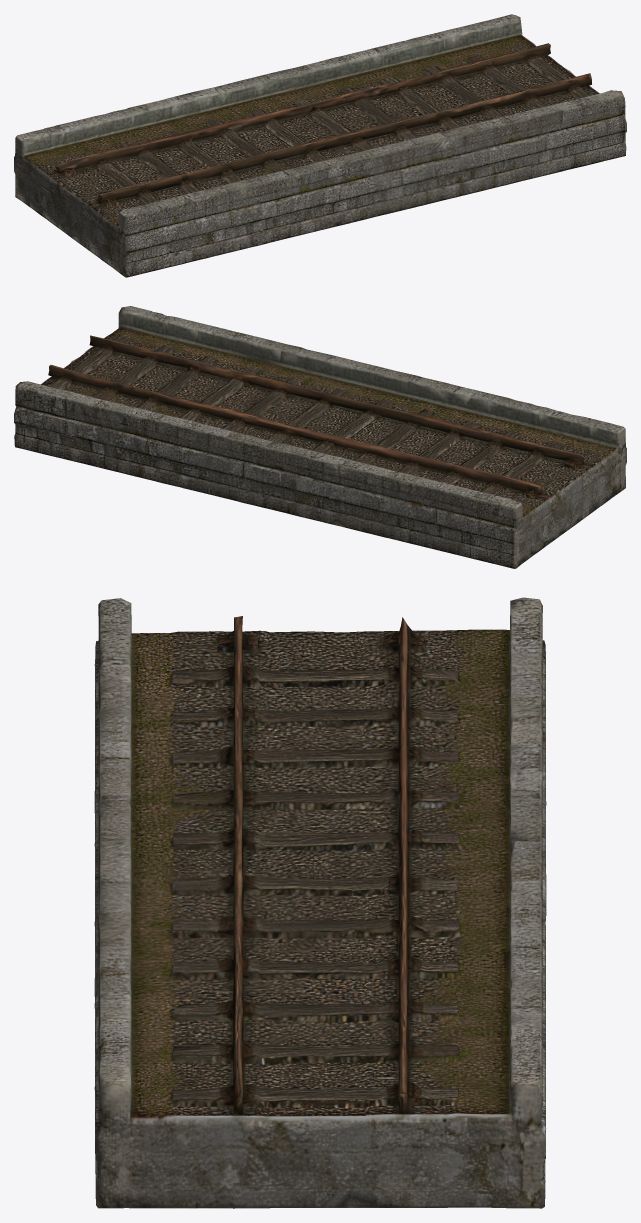
The model's file is viaduct_span.glb.
The picture shows the model from 3 angles, top to bottom: view 1: azimuth 30°, elevation 25°; view 2: azimuth 150°, elevation 25°; view 3: azimuth 270°, elevation 25°; orthographic projection. The views are drawn at different scales.
Parts seen in each view (by area): view 1: tripo_node_a445359e-16de-4d01-a7f8-f3649d0167a6; view 2: tripo_node_a445359e-16de-4d01-a7f8-f3649d0167a6; view 3: tripo_node_a445359e-16de-4d01-a7f8-f3649d0167a6.
Boxes of the visible parts, x1,y1,x2,y2 form: tripo_node_a445359e-16de-4d01-a7f8-f3649d0167a6: [14, 14, 626, 277]; tripo_node_a445359e-16de-4d01-a7f8-f3649d0167a6: [14, 306, 626, 568]; tripo_node_a445359e-16de-4d01-a7f8-f3649d0167a6: [94, 597, 546, 1208].
Size of the model in its own units: 11.84 by 1.4 by 4.62.
Materials: 1 (1 with a texture image).
